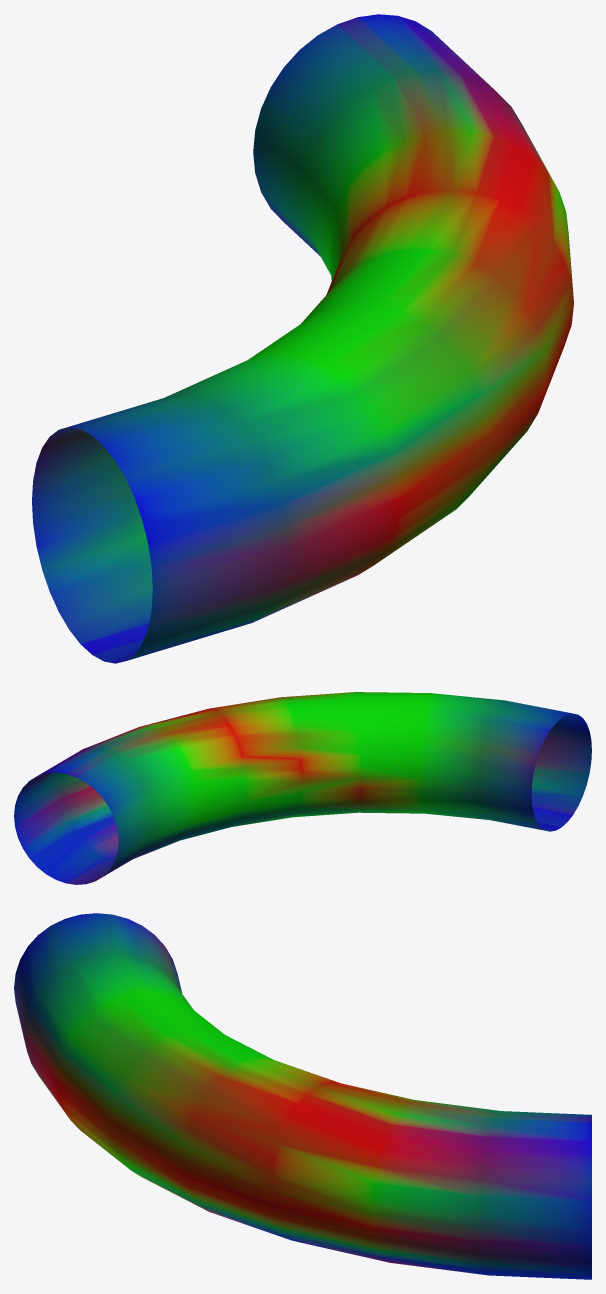
The model's file is PipeA_C_3.fbx.
The picture shows the model from 3 angles, top to bottom: view 1: azimuth 30°, elevation 25°; view 2: azimuth 150°, elevation 25°; view 3: azimuth 270°, elevation 25°; orthographic projection. The views are drawn at different scales.
Parts seen in each view (by area): view 1: Circle.001; view 2: Circle.001; view 3: Circle.001.
Boxes of the visible parts, <box> form: Circle.001: <box>32,14,573,663</box>; Circle.001: <box>14,692,591,884</box>; Circle.001: <box>14,913,591,1279</box>.
Size of what is drawn, in the model's own units: 350 by 100 by 350.
